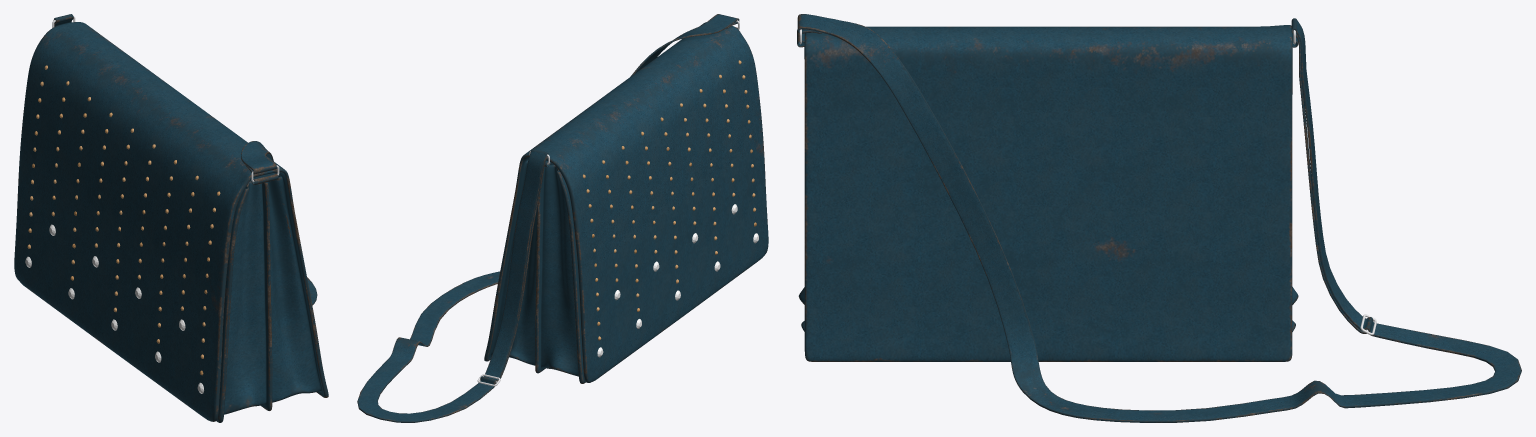
Rendered from handbag-1.glb.
3 renders of one model, left to right at view 1: azimuth 30°, elevation 25°; view 2: azimuth 150°, elevation 25°; view 3: azimuth 270°, elevation 25°, orthographic. The views are drawn at different scales.
Parts seen in each view (by area): view 1: Gem.004; view 2: Gem.004; view 3: Gem.004.
Boxes of the visible parts, <box> form: Gem.004: <box>14,14,328,422</box>; Gem.004: <box>357,14,768,422</box>; Gem.004: <box>797,14,1521,422</box>.
Bounding box in the file's own units: 0.172 × 0.1845 × 0.4005.
Materials: 1 (1 with a texture image).
